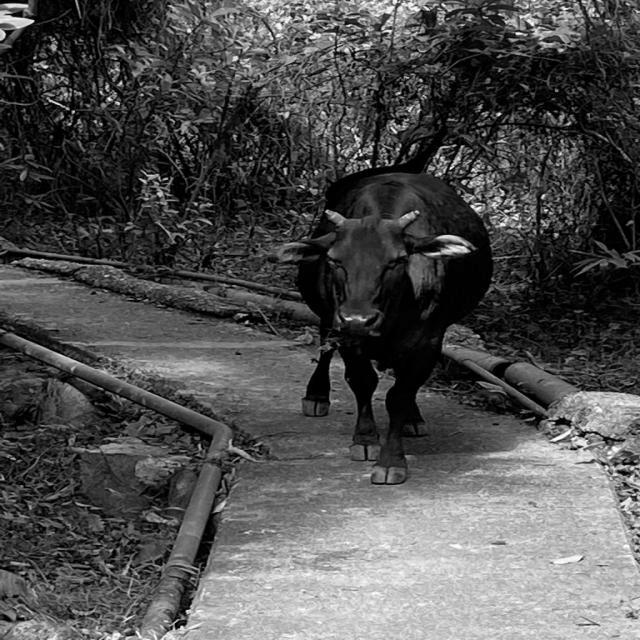cow: (282, 164, 492, 484)
